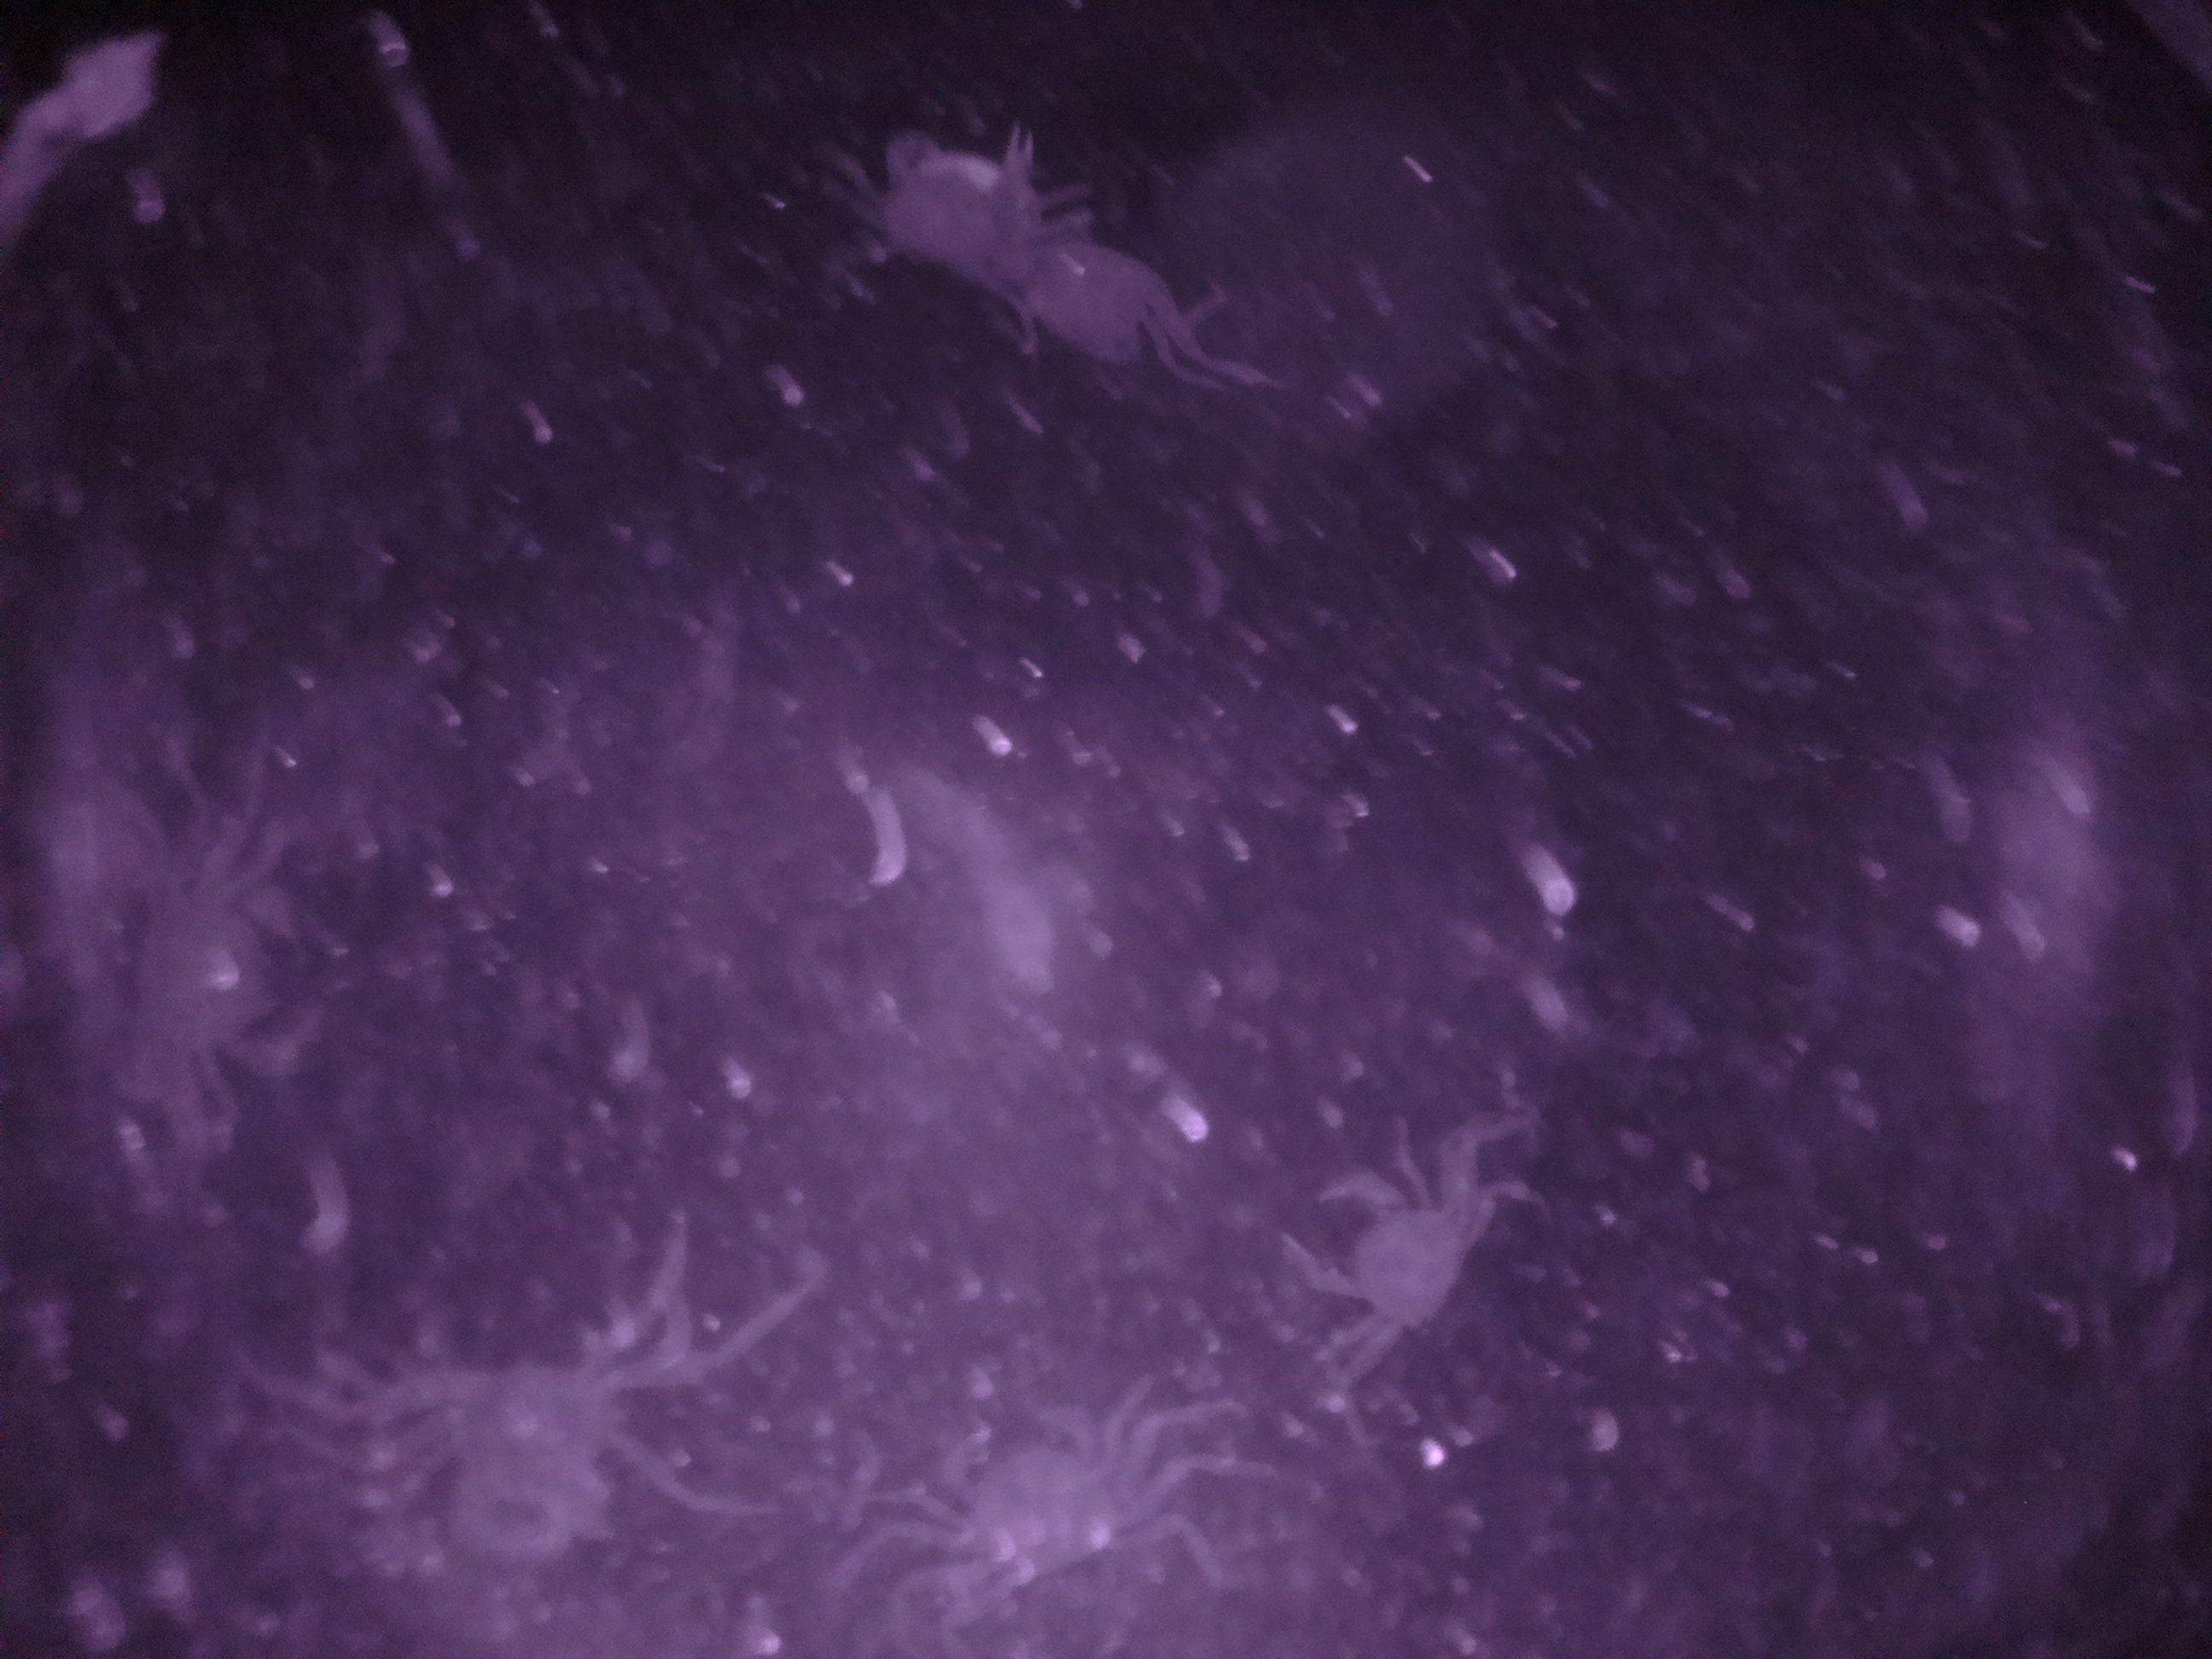Crab: (1258, 1145, 1496, 1361)
